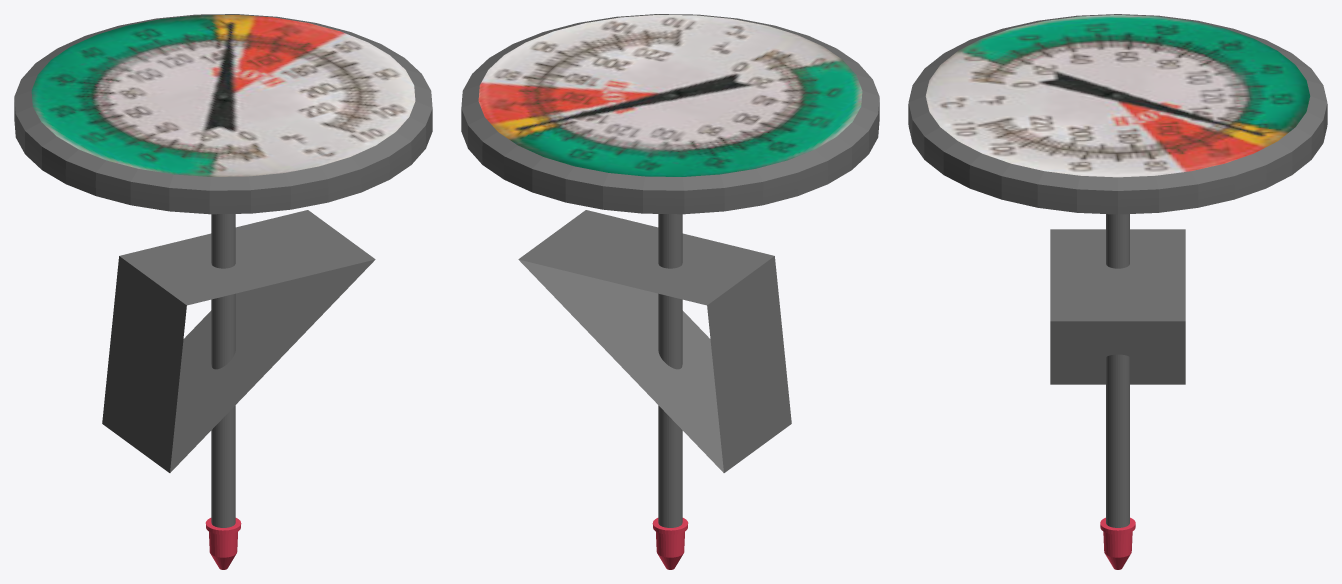
The model's file is item-pariwasta_Termometer.fbx.
3 renders of one model, left to right at view 1: azimuth 30°, elevation 25°; view 2: azimuth 150°, elevation 25°; view 3: azimuth 270°, elevation 25°, orthographic.
Parts seen in each view (by area): view 1: thermometer; view 2: thermometer; view 3: thermometer.
Boxes of the visible parts, x1,y1,x2,y2 form: thermometer: (14, 14, 432, 569); thermometer: (461, 14, 879, 569); thermometer: (908, 14, 1327, 569).
Bounding box in the file's own units: 105 × 130 × 105.
